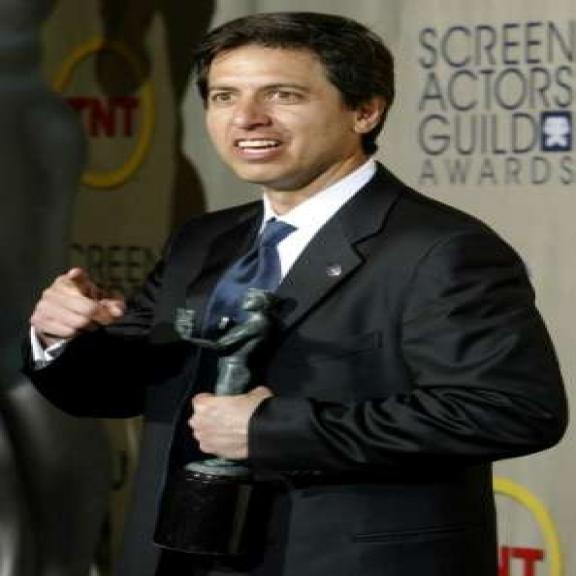face: (211, 44, 393, 196)
